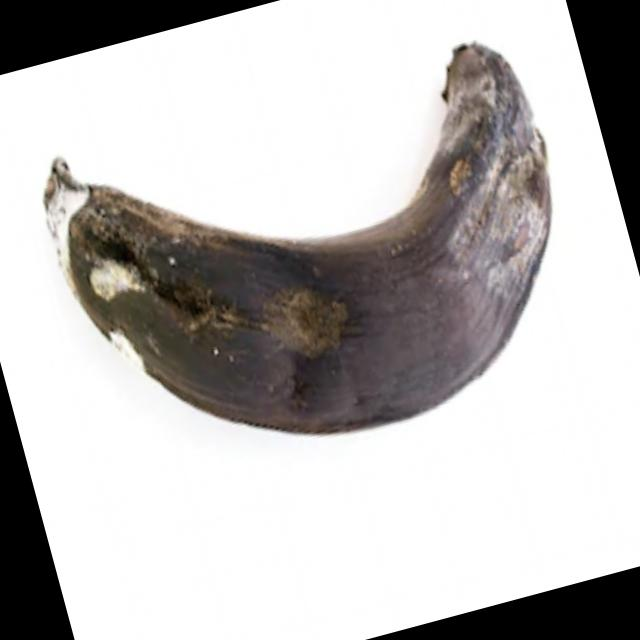rotten-banana: (27, 15, 594, 493)
